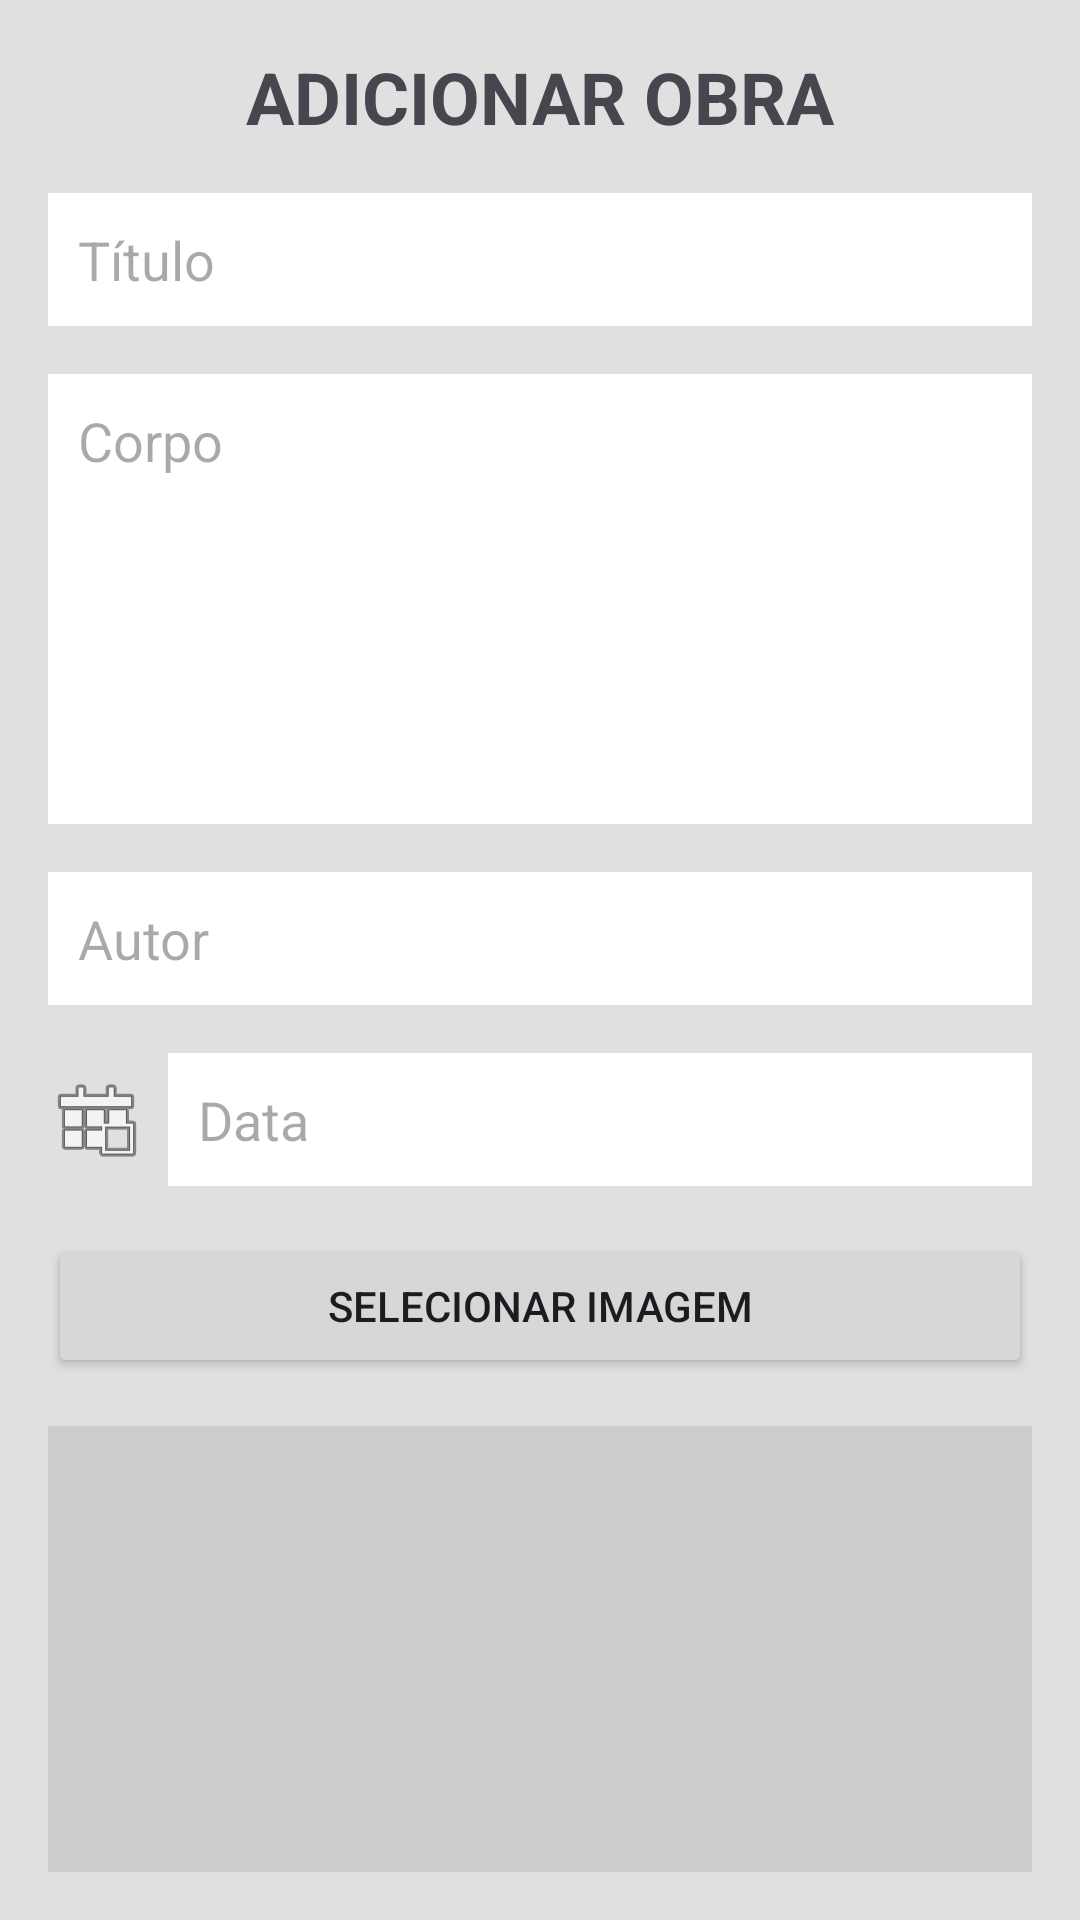

Screen size 1080×1920. Icon name, then its box in pixels as {"left": x1, "top": y1, "right": x2, "bottom": y2}:
today: {"left": 57, "top": 1084, "right": 137, "bottom": 1157}
